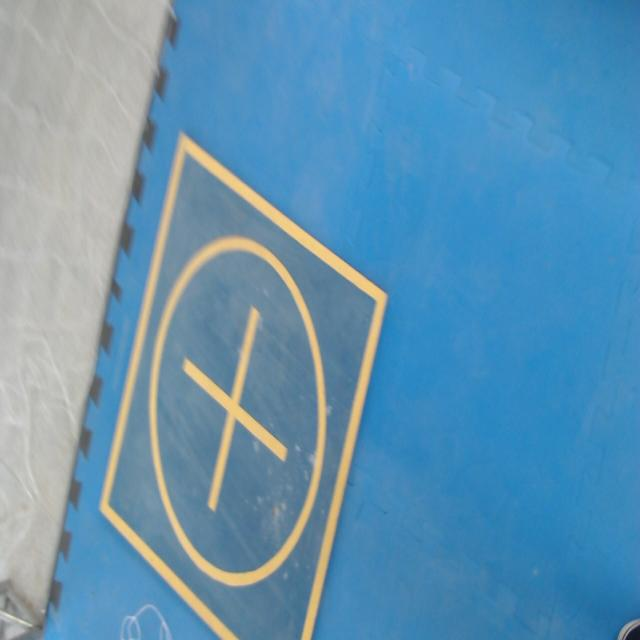base_pouso: (100, 130, 390, 639)
